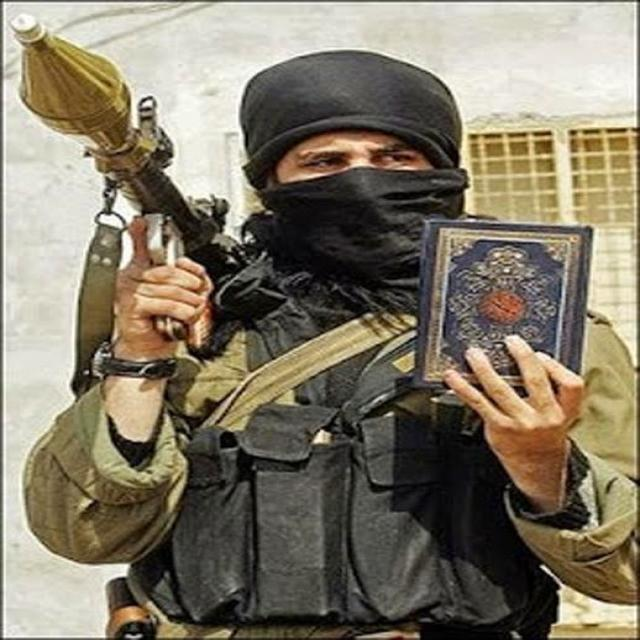bazooka: (12, 5, 337, 399)
